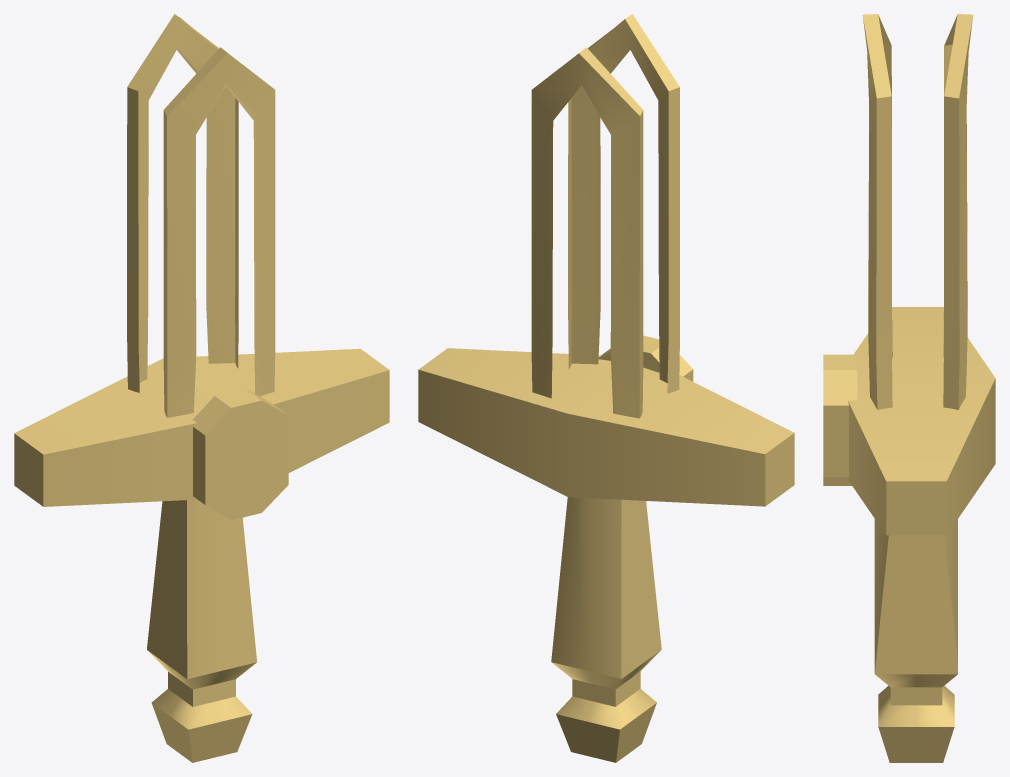
The model's file is basic_handle.fbx.
3 renders of one model, left to right at view 1: azimuth 30°, elevation 25°; view 2: azimuth 150°, elevation 25°; view 3: azimuth 270°, elevation 25°, orthographic. The views are drawn at different scales.
Visible parts, largest first — view 1: basic_handle; view 2: basic_handle; view 3: basic_handle.
Boxes of the visible parts, x1=… form: basic_handle: x1=14, y1=14, x2=389, y2=762; basic_handle: x1=418, y1=14, x2=794, y2=762; basic_handle: x1=823, y1=14, x2=995, y2=762.
Bounding box in the file's own units: 32.02 × 63.12 × 13.35.
